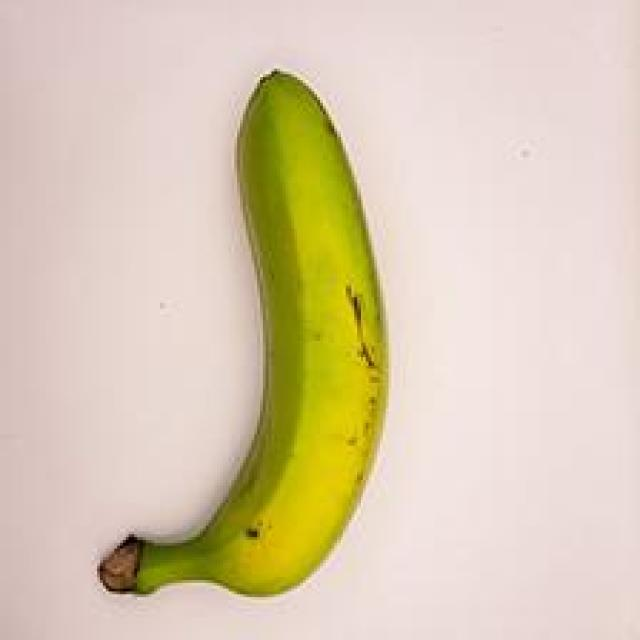Unripe: (73, 50, 394, 617)
